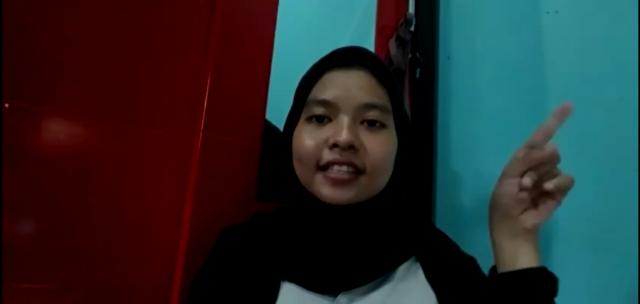Z: (490, 98, 580, 230)
